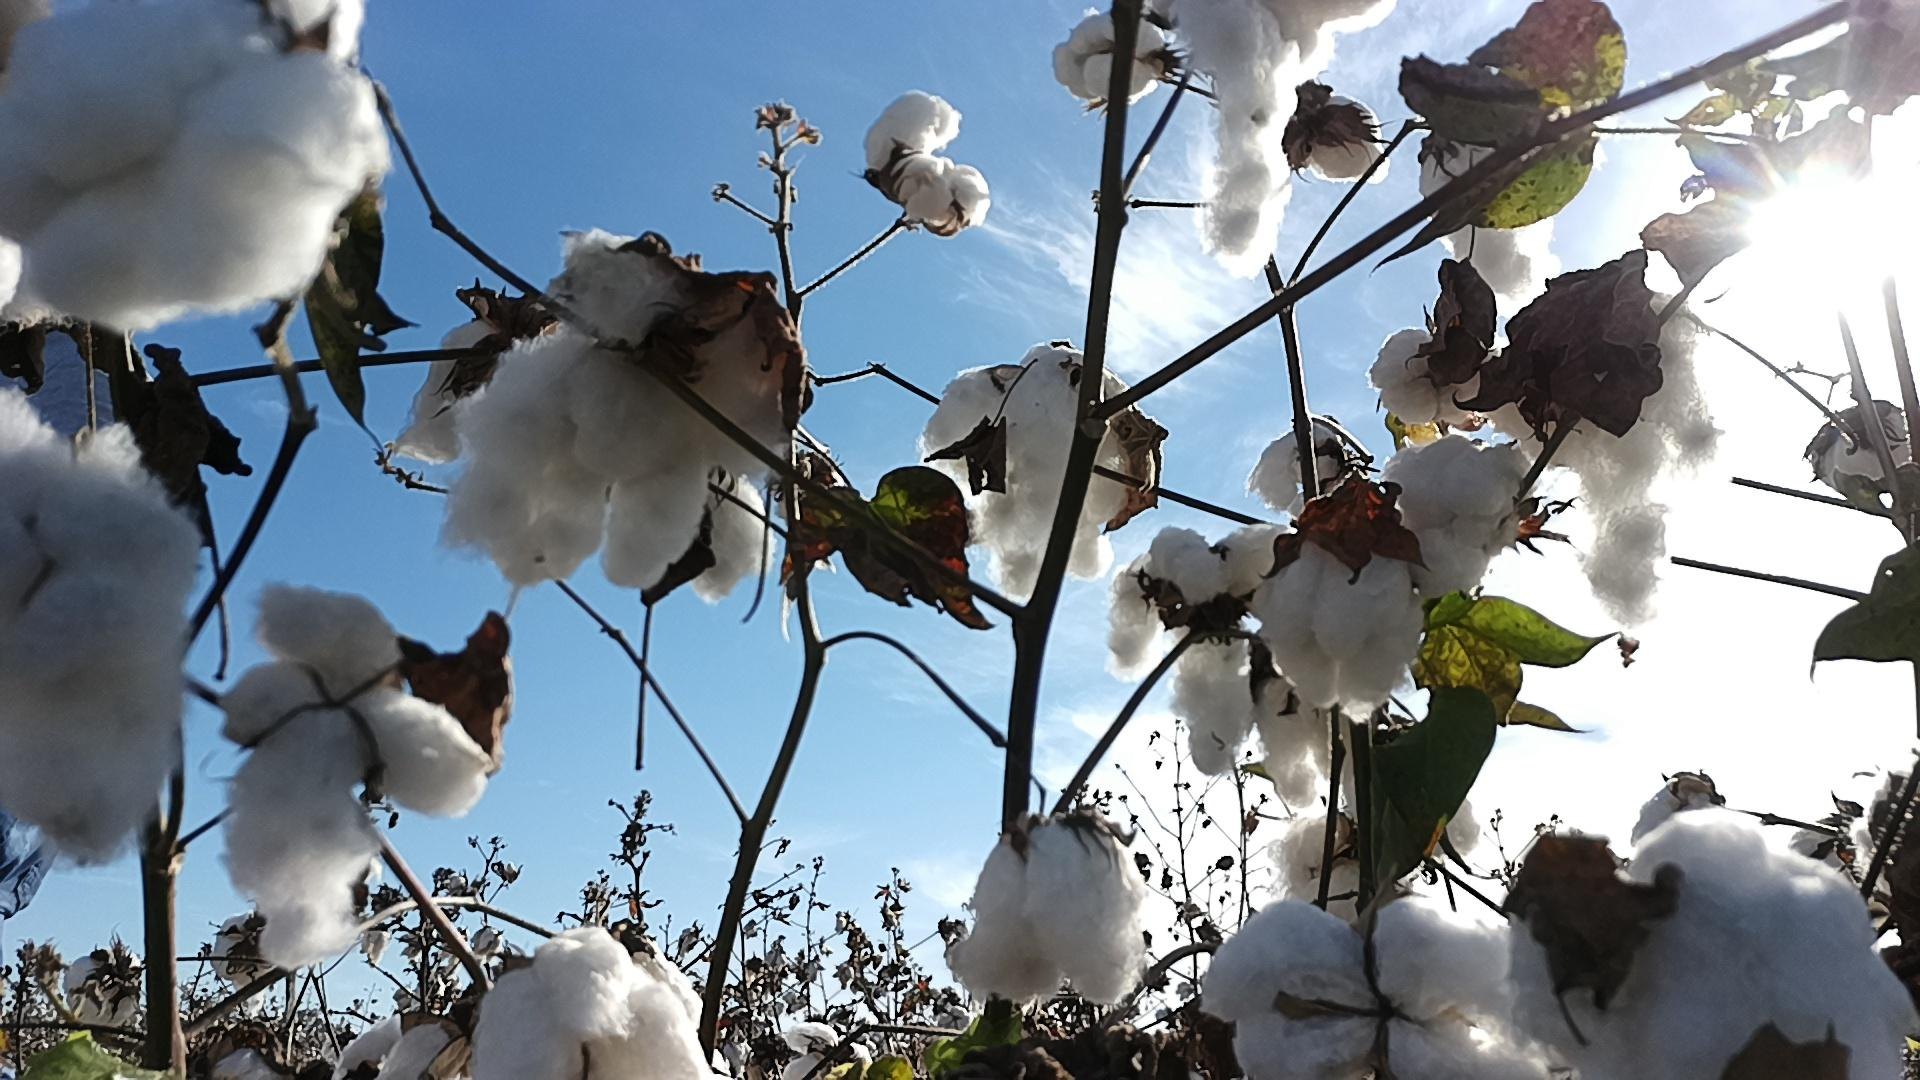cotton_ready: (0, 0, 393, 326), (431, 237, 793, 585), (1507, 806, 1920, 1080), (218, 578, 496, 963), (0, 390, 198, 861), (1499, 303, 1726, 621), (1205, 898, 1553, 1080), (1180, 0, 1399, 270), (922, 348, 1141, 605), (1101, 533, 1286, 771), (1263, 675, 1484, 858), (473, 928, 713, 1080), (953, 824, 1149, 1005), (1255, 516, 1418, 709), (1378, 433, 1531, 599), (600, 465, 770, 607), (1422, 125, 1543, 305), (404, 310, 518, 465), (870, 94, 996, 235), (1275, 820, 1408, 924), (1375, 326, 1498, 433), (1054, 16, 1175, 103), (1807, 400, 1913, 488), (1251, 421, 1350, 513), (336, 1015, 468, 1080), (1300, 94, 1390, 183), (1627, 781, 1708, 845)
